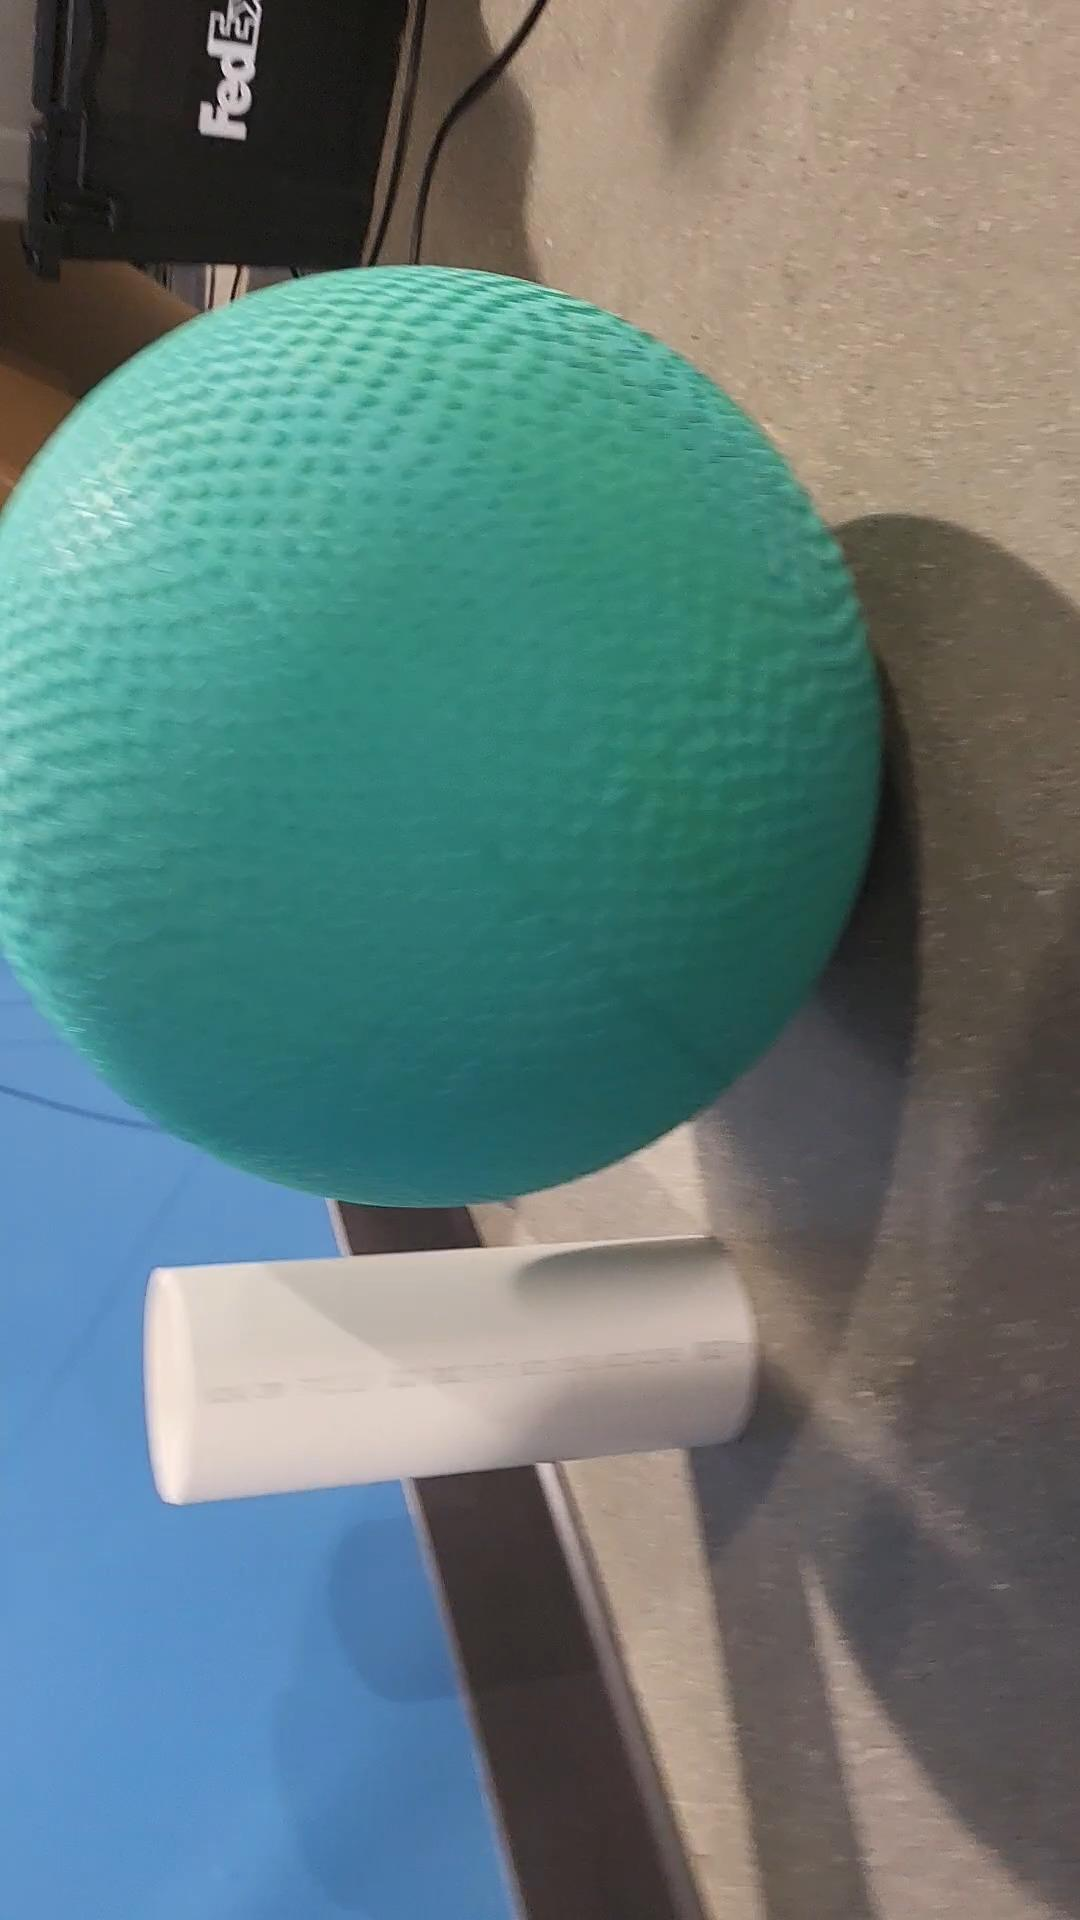algae: (0, 268, 873, 1205)
coral: (148, 1237, 770, 1502)
